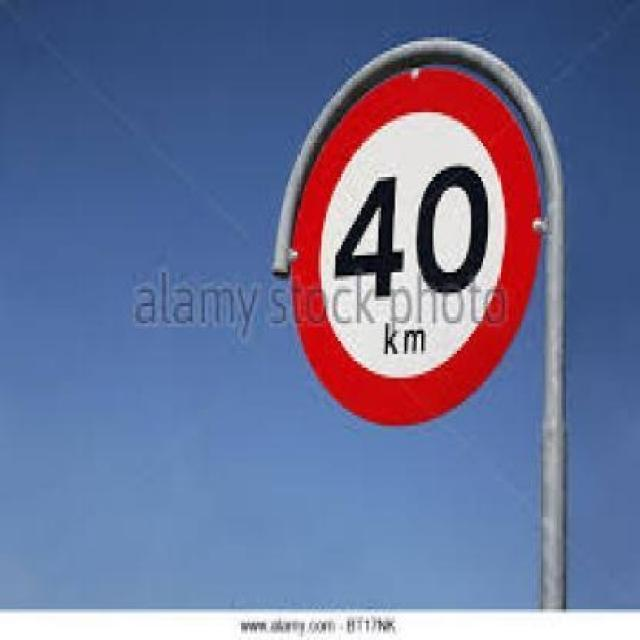forb_speed_over_40: (302, 68, 523, 411)
